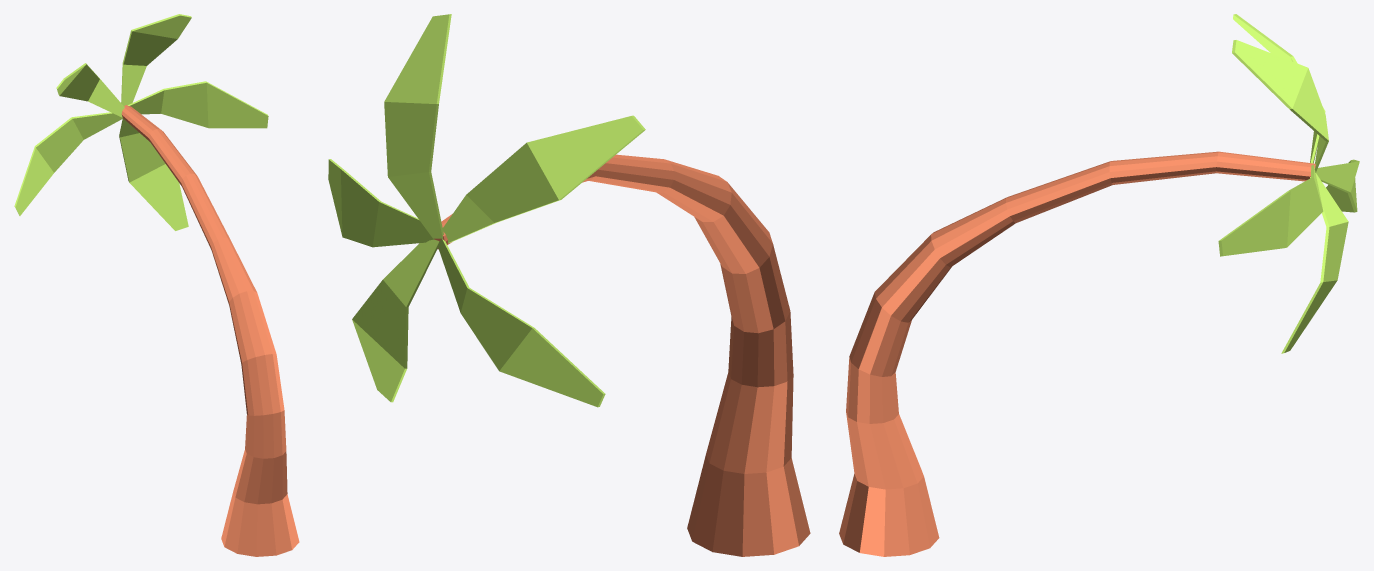
The model's file is Palm1_autumn.FBX.
3 views of the same model, side by side, from view 1: azimuth 30°, elevation 25°; view 2: azimuth 150°, elevation 25°; view 3: azimuth 270°, elevation 25° (orthographic). The views are drawn at different scales.
Visible parts, largest first — view 1: Palm.002; view 2: Palm.002; view 3: Palm.002.
Part boxes in pixels (bbox=[...]): Palm.002: bbox=[14, 14, 299, 556]; Palm.002: bbox=[328, 14, 810, 556]; Palm.002: bbox=[839, 14, 1359, 556].
Size of the model in its own units: 3.4 by 6.28 by 5.6.
